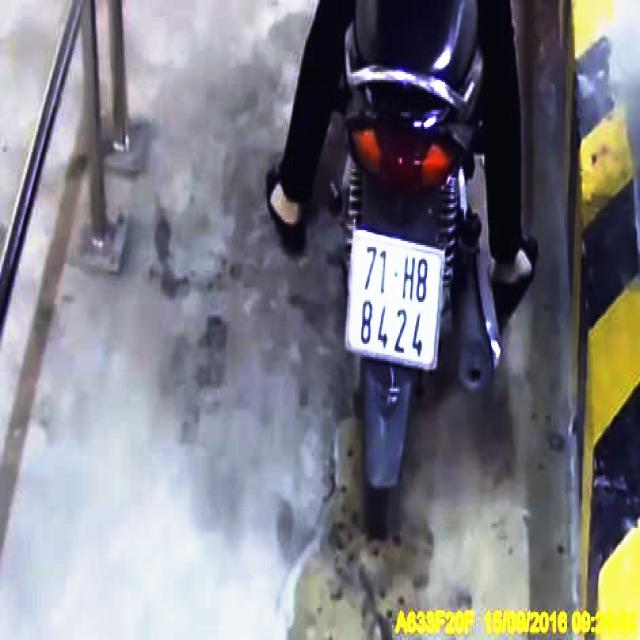license_plate: (347, 232, 446, 370)
